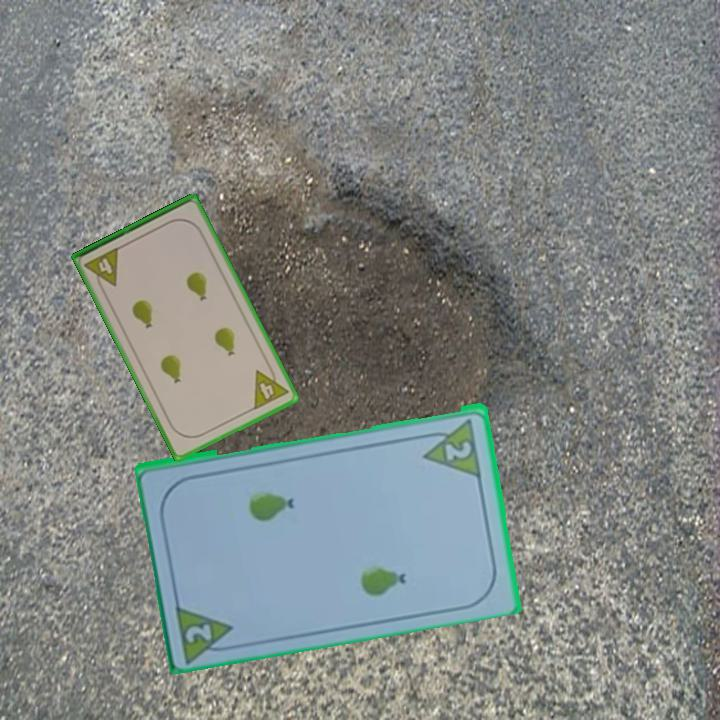2p: (181, 619, 216, 645), (442, 436, 475, 463)
4p: (250, 361, 292, 413), (81, 243, 122, 294)
